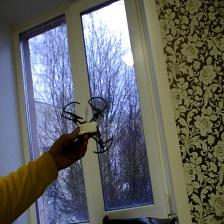drone: (60, 98, 116, 154)
